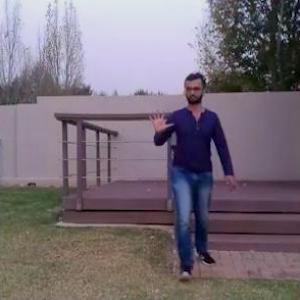follow_hand: (147, 104, 174, 137)
